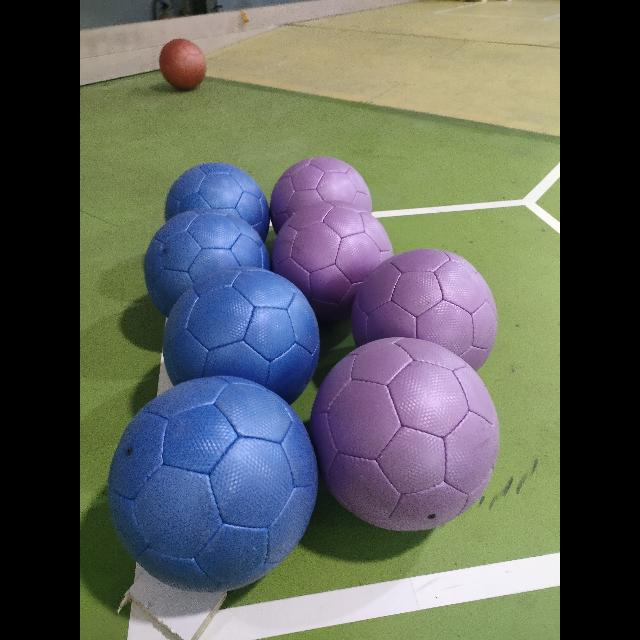B: (108, 376, 318, 592), (155, 264, 319, 412), (144, 208, 270, 316), (165, 162, 268, 255)
P: (310, 338, 498, 530), (348, 251, 502, 367), (272, 203, 392, 323), (275, 160, 371, 242)
R: (160, 39, 207, 89)
